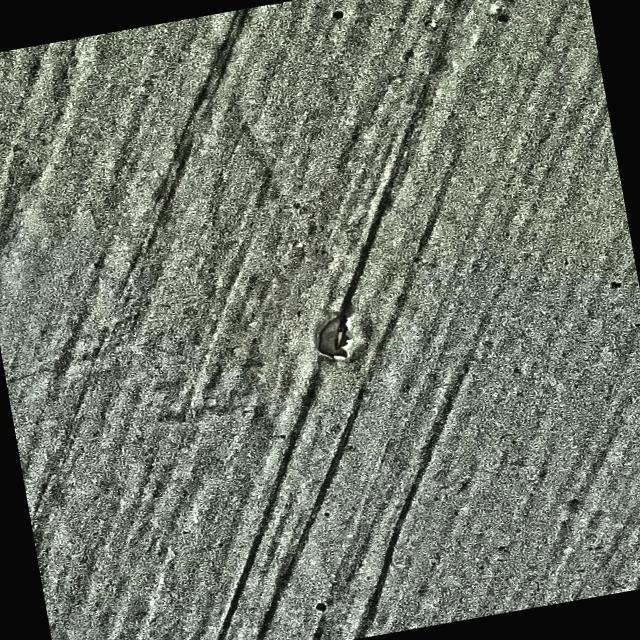crack: (312, 308, 368, 366)
